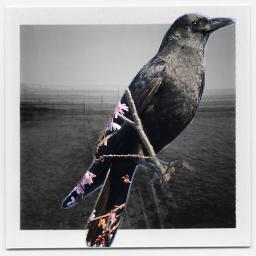Crow: (61, 11, 236, 247)
